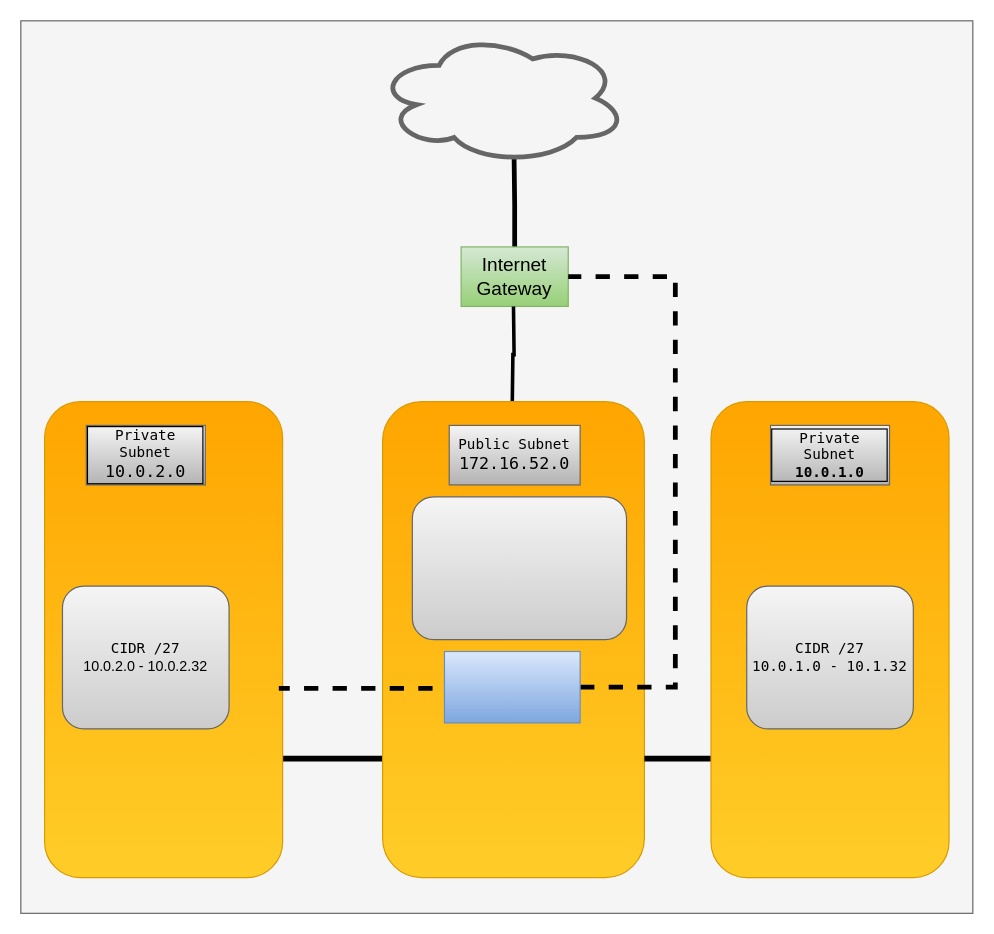
This 994x934 diagram has some shape labels left out. Each missing label, with the centre of its shape:
"CIDR /29 172.16.52.0 - 172.16.52.7" belongs at (x=519, y=568).
"Internet" belongs at (x=501, y=97).
"NAT Gateway Elastic IP" belongs at (x=511, y=686).
